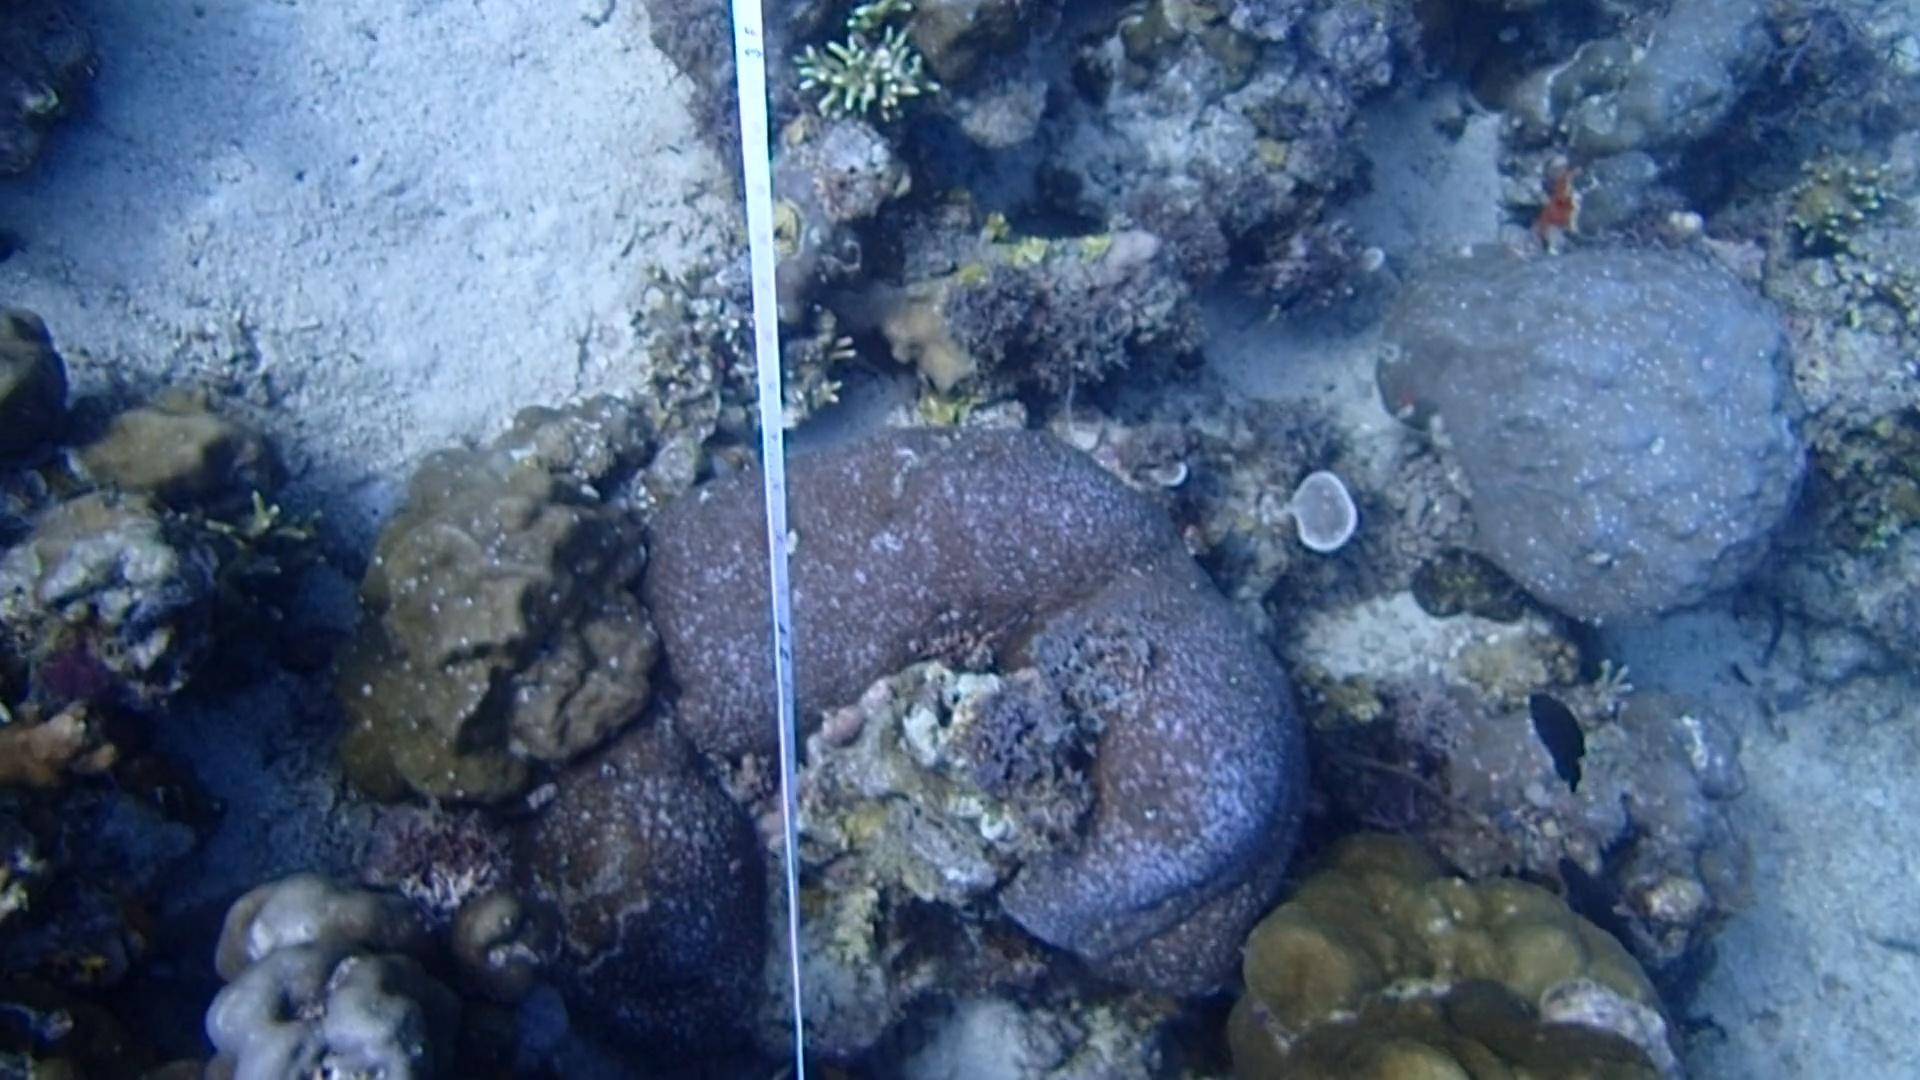Dark Fish: (1518, 678, 1598, 798)
